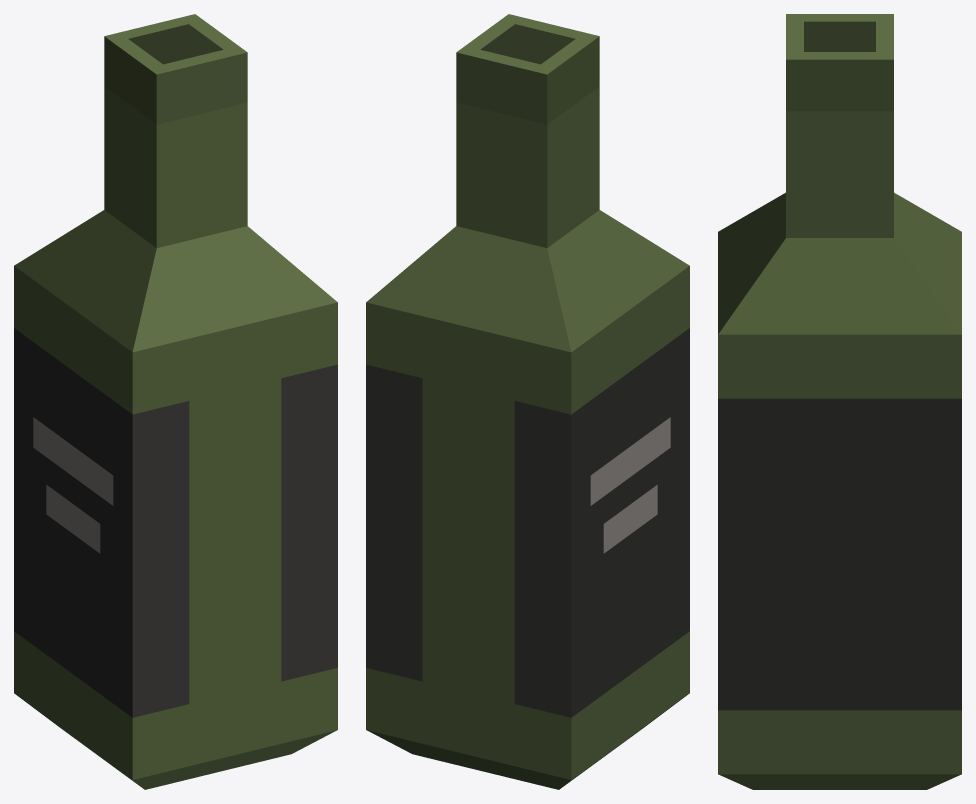
The model's file is AI_Item_Beer_01.fbx.
3 views of the same model, side by side, from view 1: azimuth 30°, elevation 25°; view 2: azimuth 150°, elevation 25°; view 3: azimuth 270°, elevation 25° (orthographic). The views are drawn at different scales.
Parts seen in each view (by area): view 1: AI_Item_Beer_01; view 2: AI_Item_Beer_01; view 3: AI_Item_Beer_01.
Part boxes in pixels (x1=…): AI_Item_Beer_01: x1=14, y1=14, x2=337, y2=789; AI_Item_Beer_01: x1=366, y1=14, x2=689, y2=789; AI_Item_Beer_01: x1=718, y1=14, x2=961, y2=789.
Bounding box in the file's own units: 0.2266 × 0.7351 × 0.2266.
